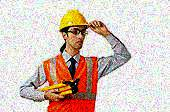helmet: (58, 9, 90, 49)
